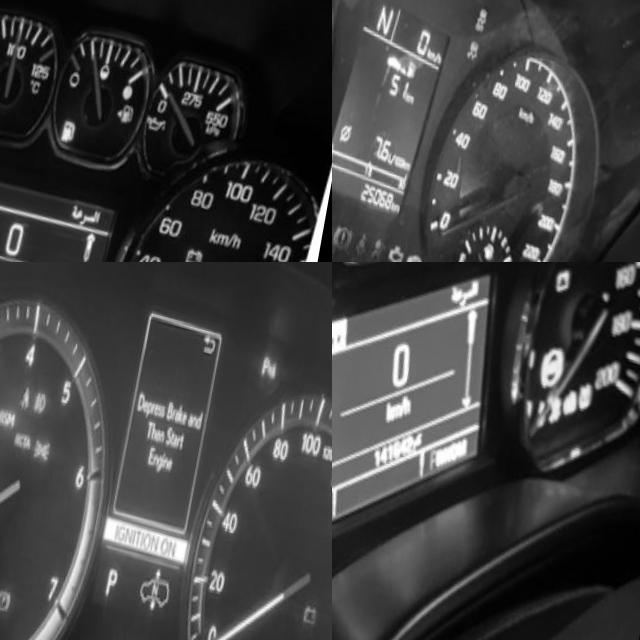Low fuel level: (65, 94, 87, 129)
Seat Belt: (25, 369, 46, 406)
